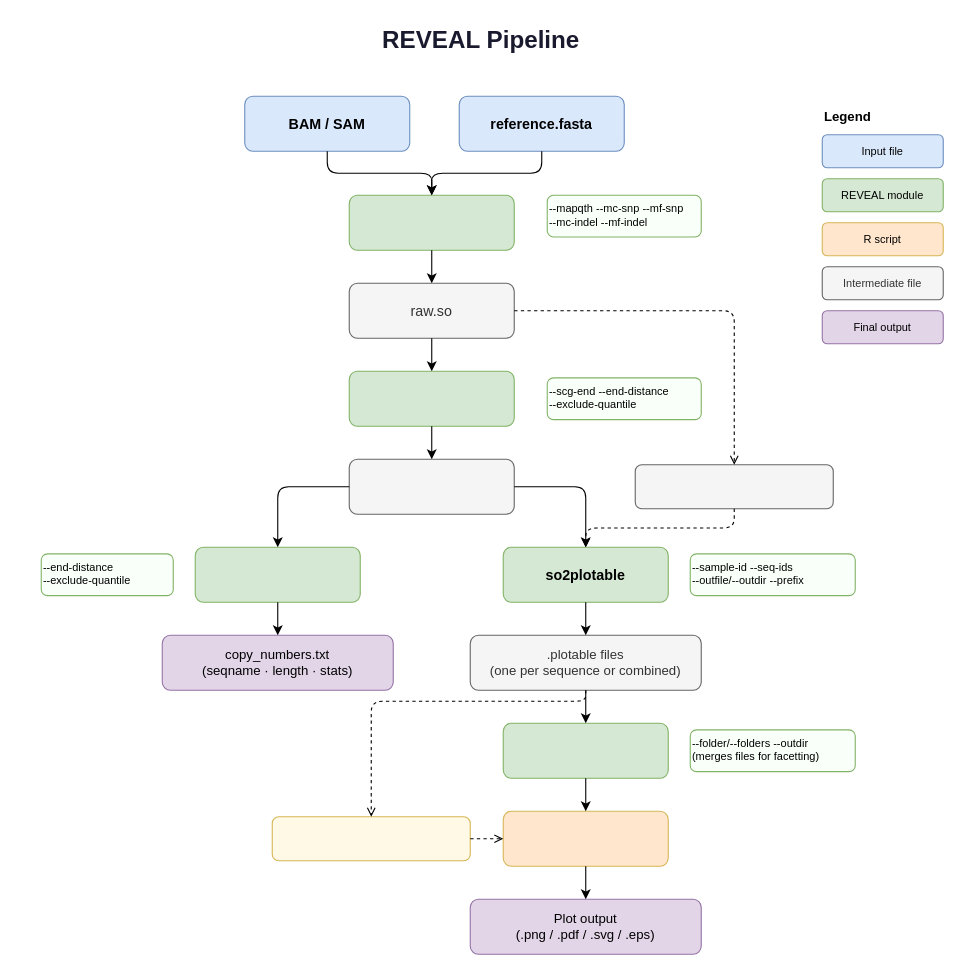
The diagram is 972 pixels wide and 974 high, and some of its shapes have lost their labels. The centre of each missing label's shape, as x and y in pixels:
bam2so: (431,222)
Can also call Rscript directly on any .plotable file: (370,838)
estimate: (277,574)
normalize: (431,398)
normalized.so: (431,486)
plot: (585,750)
Raw (non-normalized) SO can also be visualized: (733,486)
visualize-plotable.R: (585,838)
